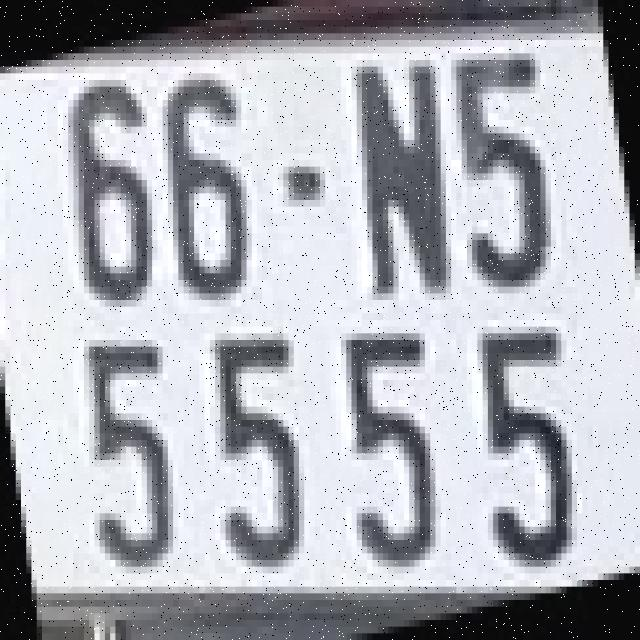5: (472, 320, 582, 567), (456, 46, 562, 286), (341, 326, 441, 566), (212, 330, 307, 570), (84, 337, 178, 570)
6: (162, 73, 252, 300), (66, 77, 154, 303)
N: (352, 54, 451, 294)
